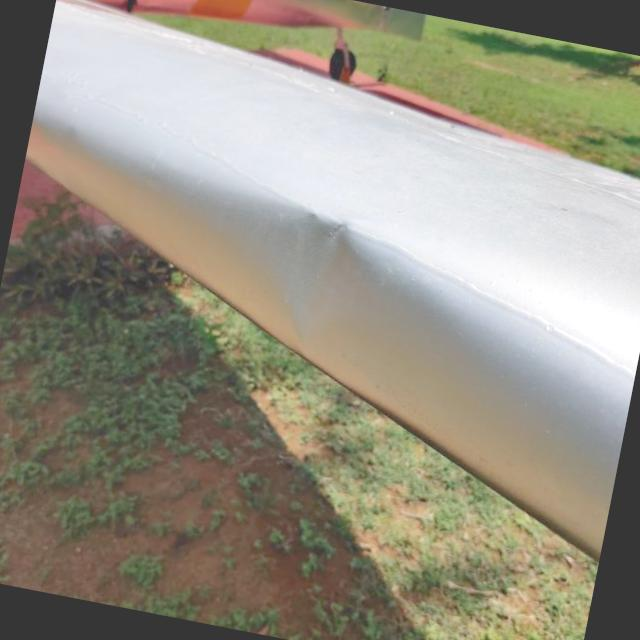dent: (223, 191, 392, 379)
